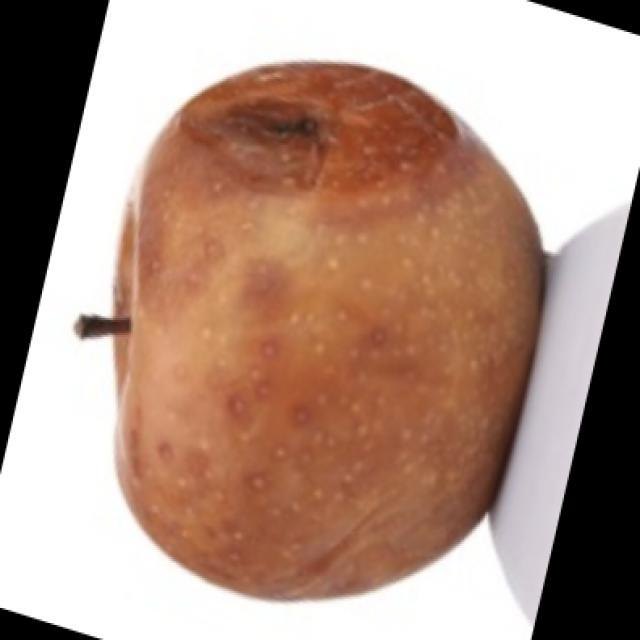Rotten: (108, 55, 532, 602)
